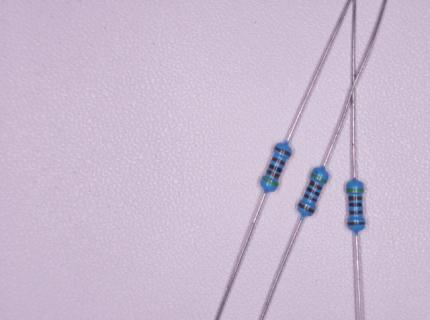Black band: (268, 164, 282, 173), (306, 187, 320, 196), (348, 203, 363, 207)
Brown band: (297, 202, 315, 214), (273, 146, 292, 157), (266, 169, 280, 180), (309, 180, 323, 191), (303, 193, 317, 203), (272, 156, 285, 166), (347, 221, 366, 226), (348, 196, 363, 201), (349, 210, 363, 215)
Green band: (261, 176, 279, 188), (310, 172, 327, 184), (346, 188, 364, 193)
